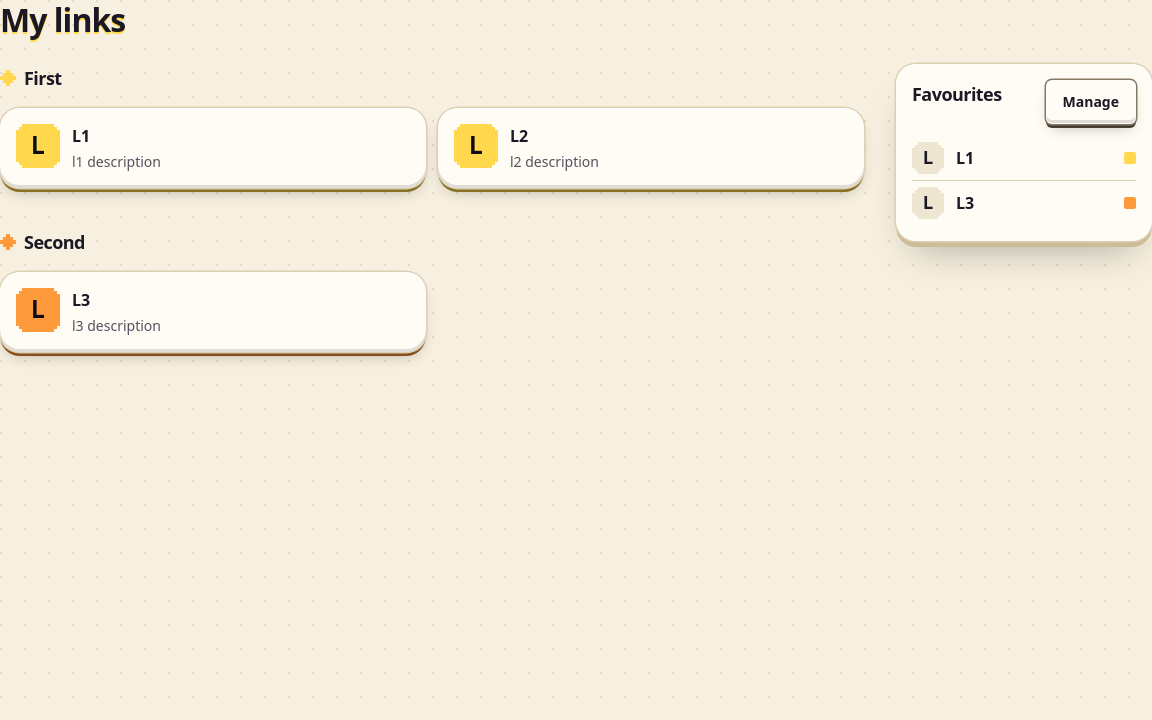
Home › manage mode › moves keep the focus and announce the position
Click the button with aria-label "Manage favourites". click: [1091, 102]
box: [1046,80,1136,124]
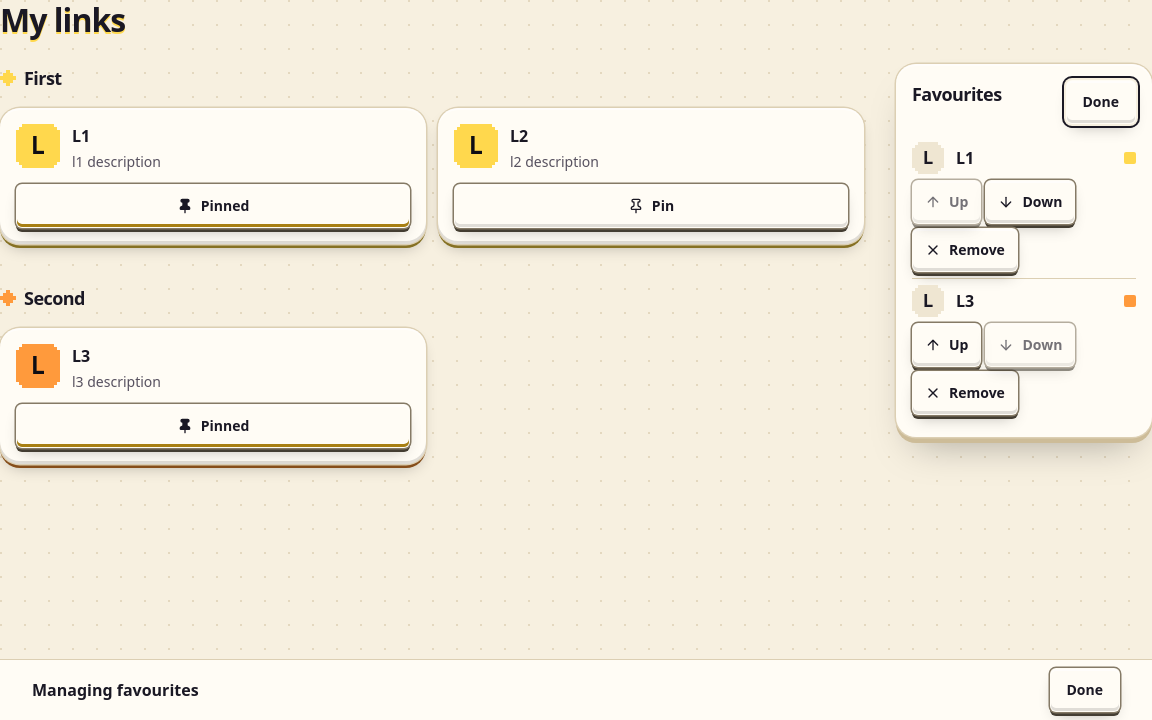
Click the button with aria-label "Move L1 down". click: [1030, 202]
box: [986,180,1075,224]
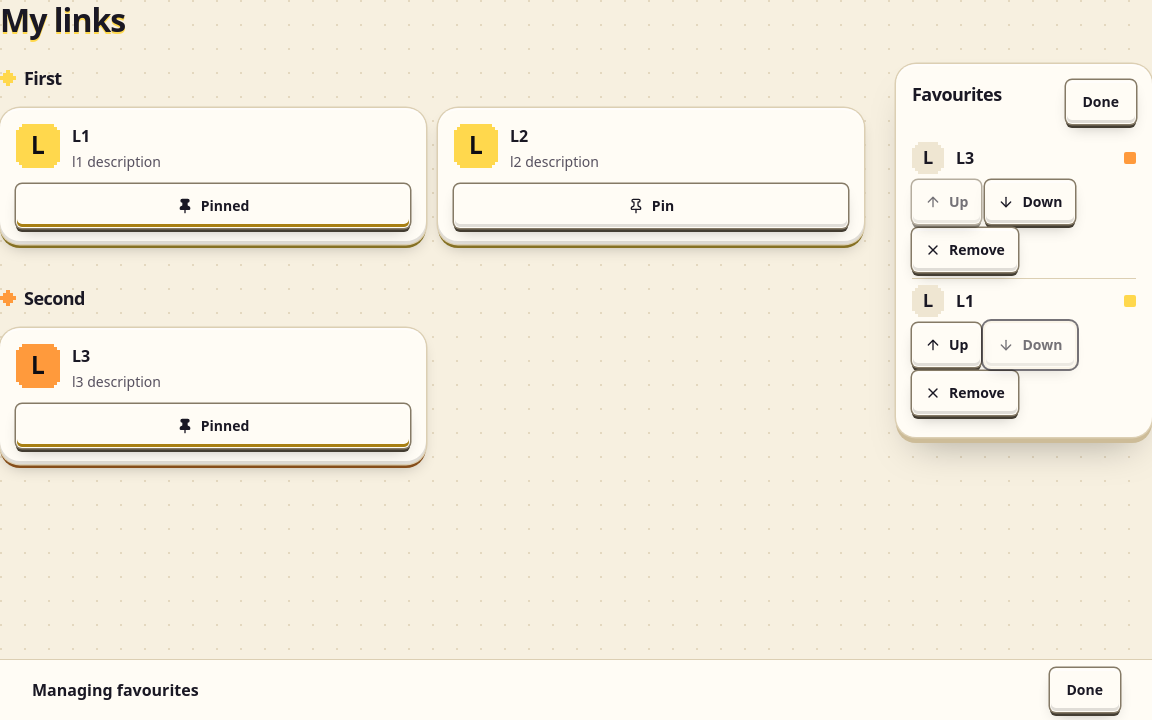
Result: the links read "L3", "L1", in this order at [956,147,974,169]; [956,290,974,312]
